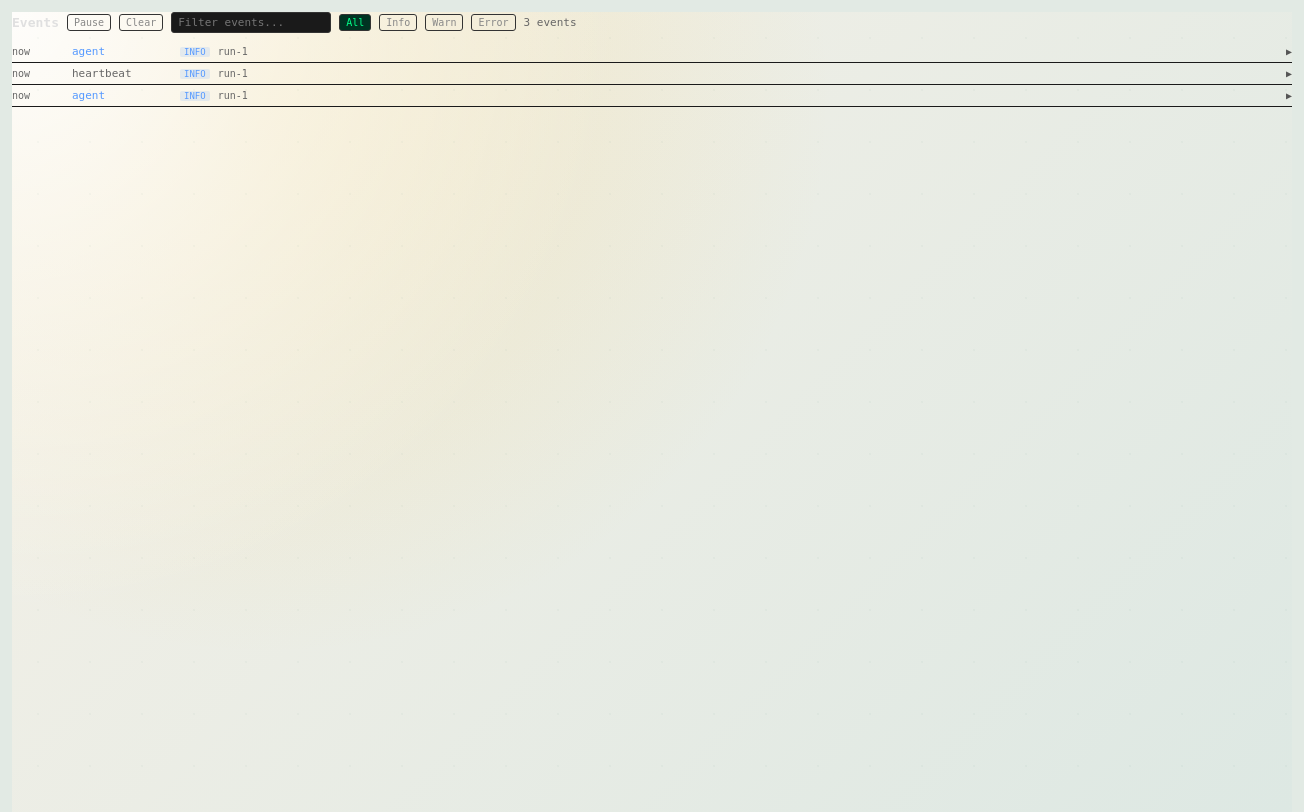
EventFeed › filter input filters events by name
Type "heartbeat" into the field with test id "event-filter-input" at (251, 22), box [171,12,331,33]
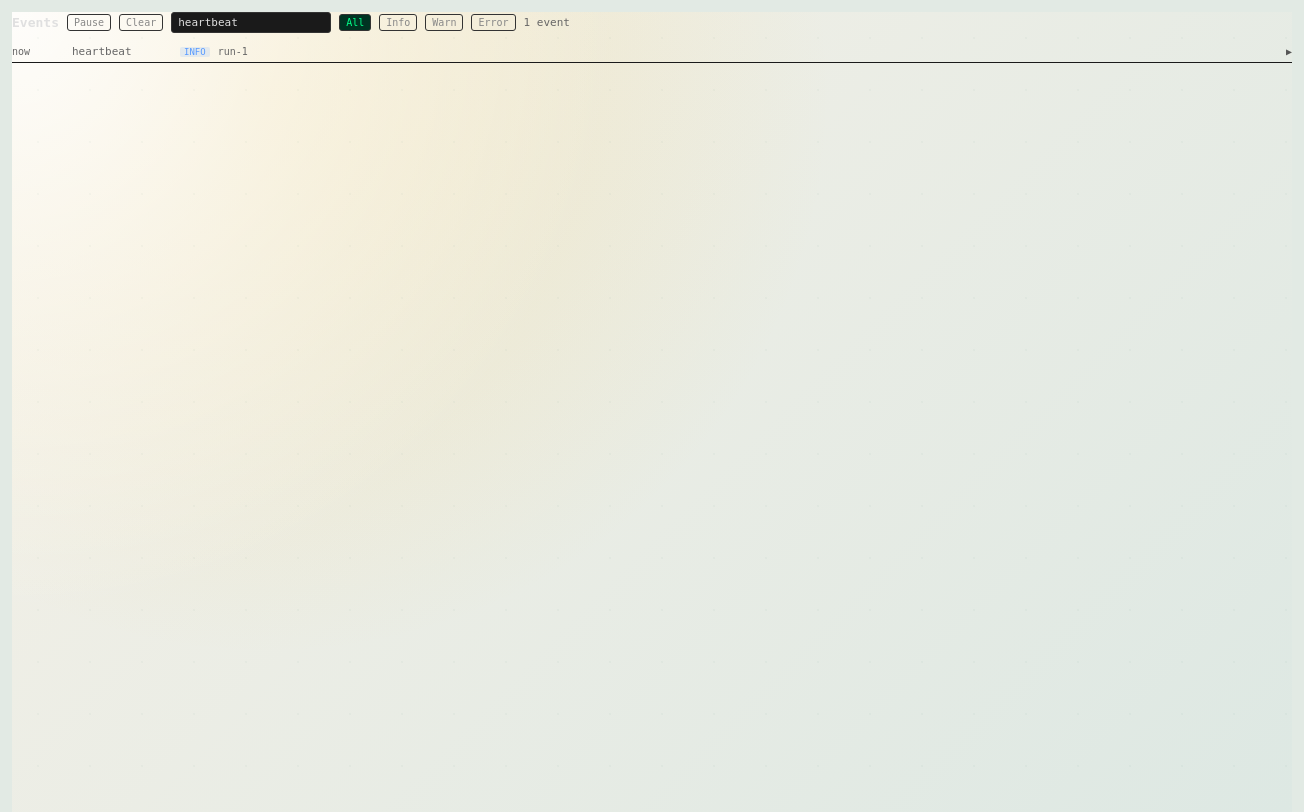
expect the text "1 event" is shown: met, box [524,16,570,29]
